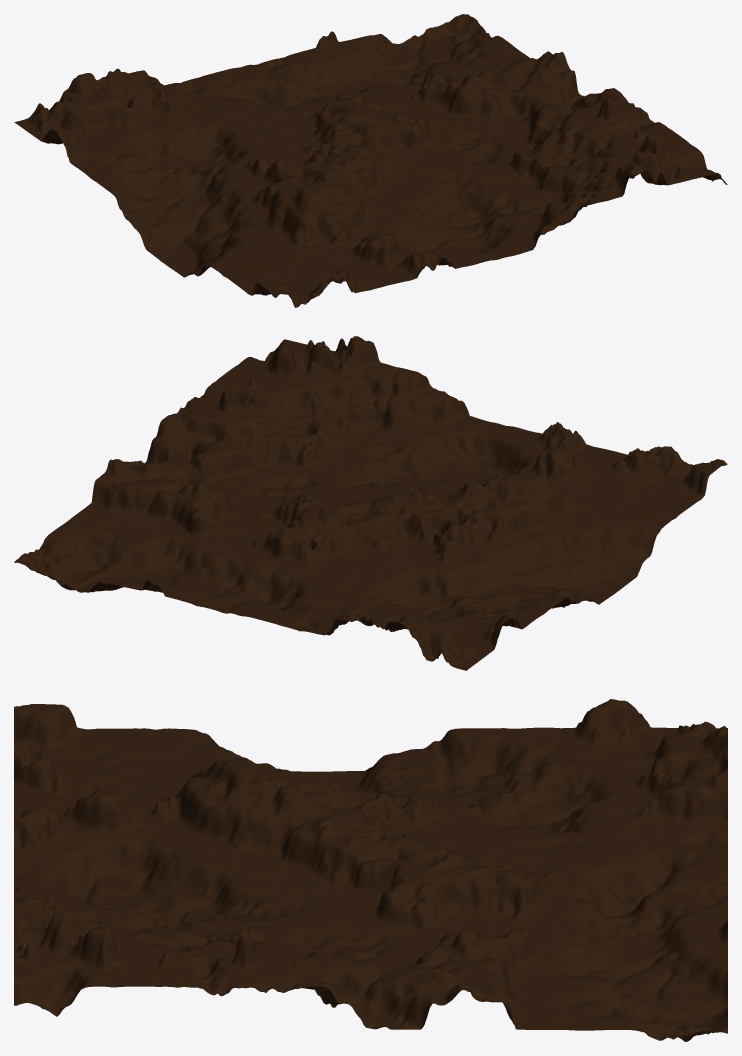
Rendered from 2x2.3_cubes_500m_005.glb.
The picture shows the model from 3 angles, top to bottom: view 1: azimuth 30°, elevation 25°; view 2: azimuth 150°, elevation 25°; view 3: azimuth 270°, elevation 25°; orthographic projection. The views are drawn at different scales.
Parts seen in each view (by area): view 1: Cube; view 2: Cube; view 3: Cube.
Boxes of the visible parts, <box> form: Cube: <box>14,14,727,307</box>; Cube: <box>14,336,727,670</box>; Cube: <box>14,699,727,1041</box>.
Bounding box in the file's own units: 500 × 91.63 × 500.
